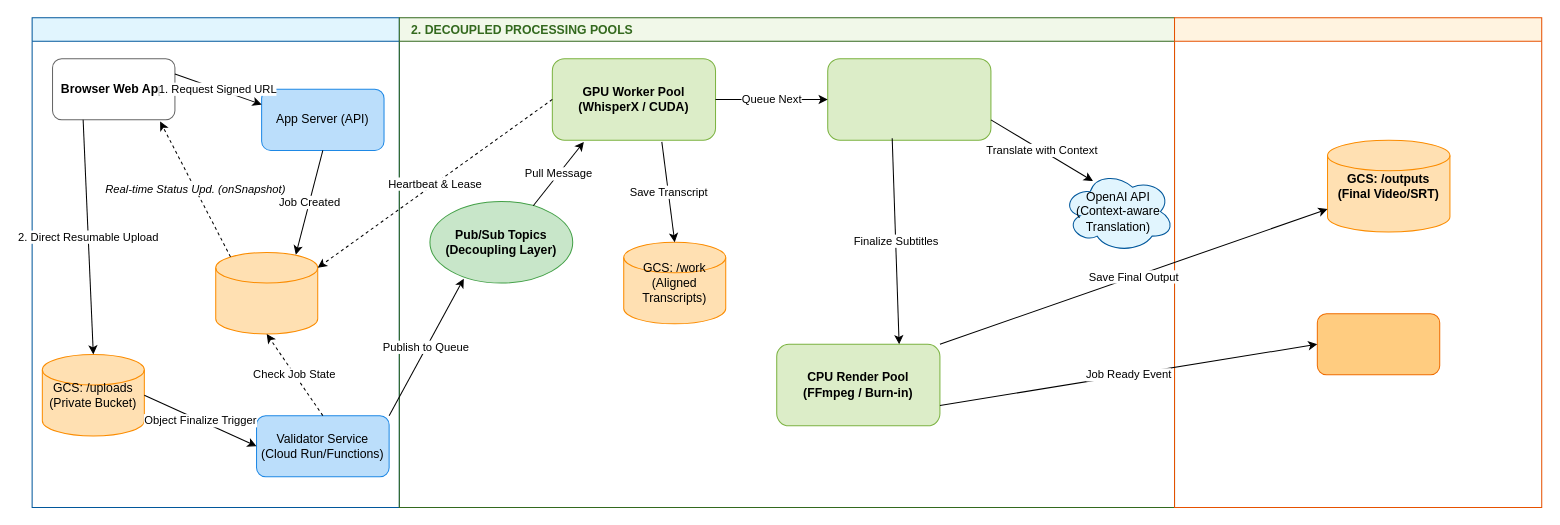
Some shapes in this 1560 by 525 pixel diagram are drawn without their labels. Each missing label, with the box of its shape:
1. INGESTION & VALIDATION: (31, 17, 399, 507)
3. OUTPUT & NOTIFICATIONS: (1174, 17, 1542, 507)
CPU Text Pool (OpenAI / Segmentation): (827, 58, 991, 140)
Email Service (SendGrid/SES): (1316, 313, 1440, 375)
Firestore (Job State & Leases): (215, 251, 318, 334)
